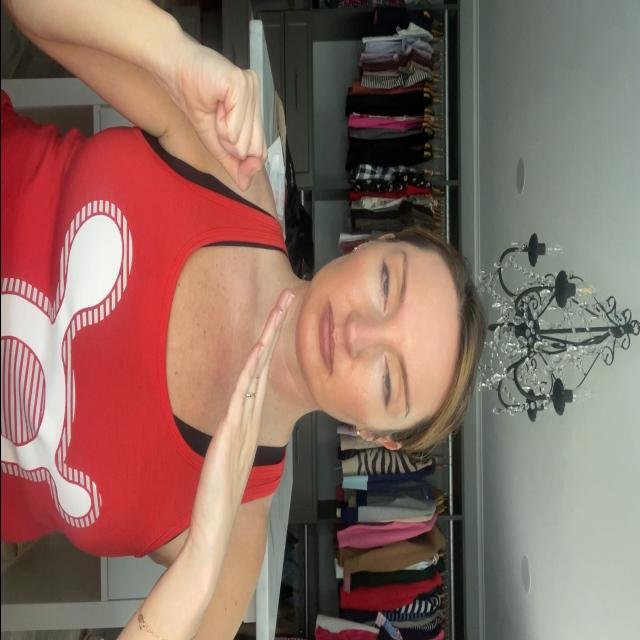Paper: (184, 290, 298, 552)
Rock: (170, 48, 266, 188)
